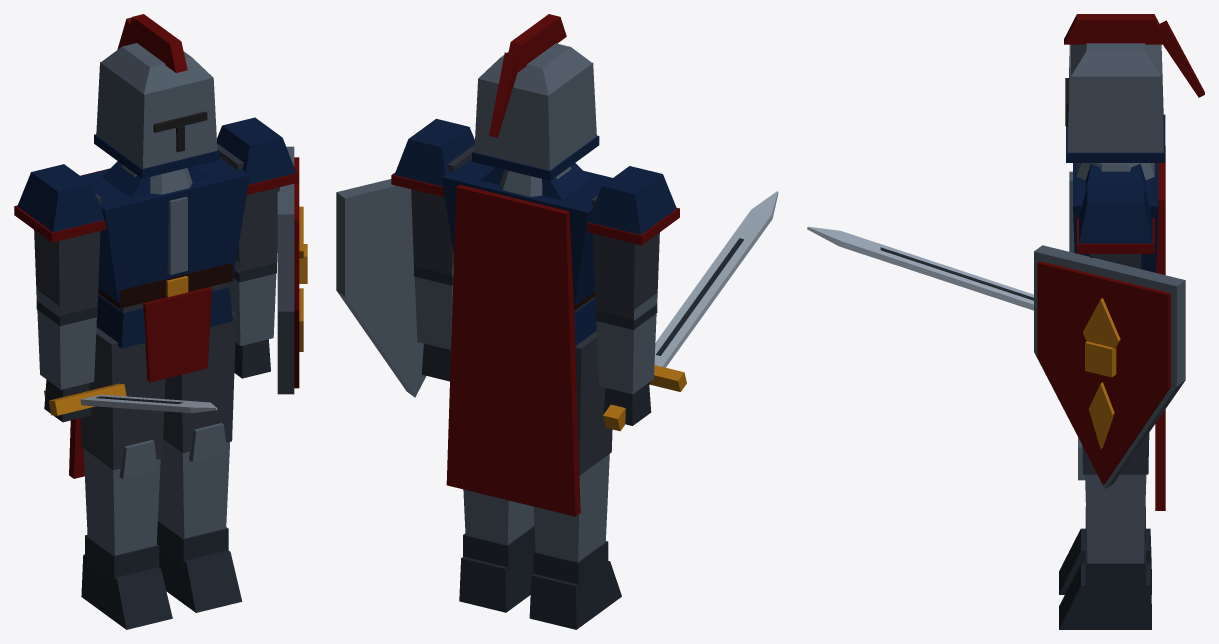
The model's file is GuardiaoRunico.fbx.
3 renders of one model, left to right at view 1: azimuth 30°, elevation 25°; view 2: azimuth 150°, elevation 25°; view 3: azimuth 270°, elevation 25°, orthographic. The views are drawn at different scales.
Visible parts, largest first — view 1: Body, LegR, ArmR, LegL, ArmL, Head; view 2: Body, ArmL, ArmR, Head, LegR, LegL; view 3: ArmL, Head, LegL, Body, ArmR, LegR.
Boxes of the visible parts, x1=… form: Body: x1=69, y1=157, x2=249, y2=478; LegR: x1=80, y1=327, x2=172, y2=629; ArmR: x1=14, y1=164, x2=217, y2=422; LegL: x1=157, y1=311, x2=242, y2=612; ArmL: x1=217, y1=117, x2=307, y2=394; Head: x1=94, y1=14, x2=219, y2=178; Body: x1=441, y1=159, x2=612, y2=516; ArmL: x1=336, y1=118, x2=474, y2=397; ArmR: x1=586, y1=166, x2=778, y2=431; Head: x1=472, y1=14, x2=599, y2=180; LegR: x1=529, y1=331, x2=621, y2=629; LegL: x1=459, y1=489, x2=535, y2=612; ArmL: x1=1034, y1=186, x2=1185, y2=489; Head: x1=1064, y1=14, x2=1204, y2=162; LegL: x1=1059, y1=433, x2=1151, y2=629; Body: x1=1069, y1=146, x2=1165, y2=510; ArmR: x1=807, y1=226, x2=1033, y2=310; LegR: x1=1059, y1=507, x2=1151, y2=594.
Size of the model in its own units: 1.01 by 1.87 by 1.15.
